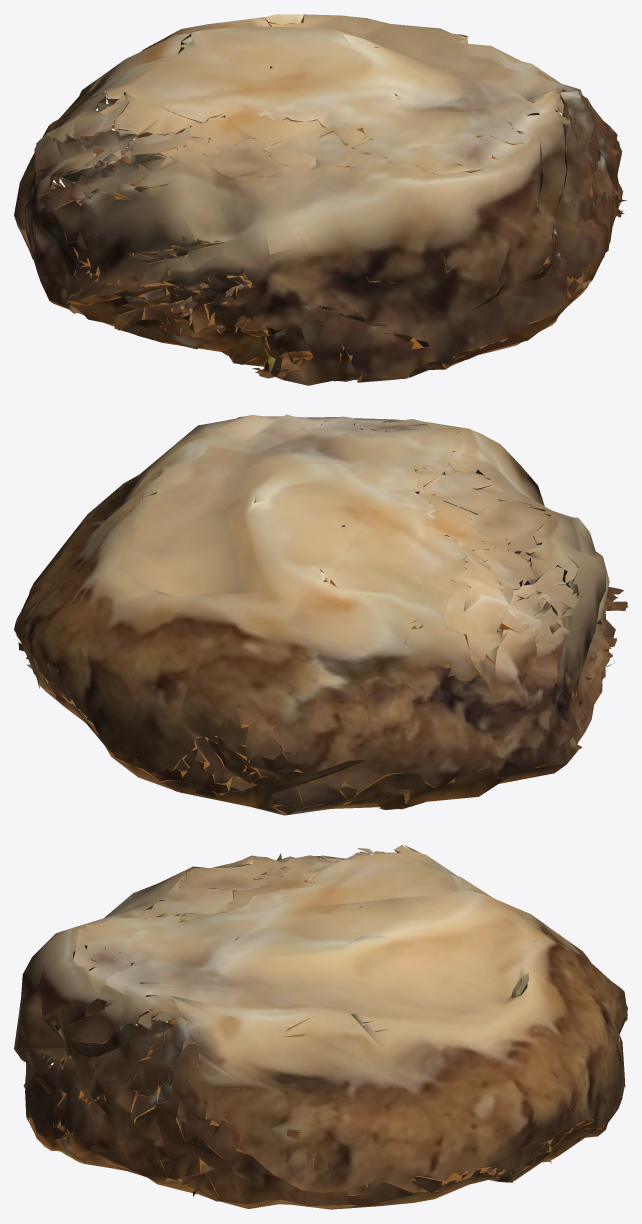
The model's file is soft-banana-bread-cookie.gltf.
The picture shows the model from 3 angles, top to bottom: view 1: azimuth 30°, elevation 25°; view 2: azimuth 150°, elevation 25°; view 3: azimuth 270°, elevation 25°; orthographic projection.
Visible parts, largest first — view 1: model_New Qlone_20211216_161347848; view 2: model_New Qlone_20211216_161347848; view 3: model_New Qlone_20211216_161347848.
Boxes of the visible parts, bbox=[...] form: model_New Qlone_20211216_161347848: bbox=[14, 14, 626, 385]; model_New Qlone_20211216_161347848: bbox=[14, 414, 627, 815]; model_New Qlone_20211216_161347848: bbox=[14, 844, 627, 1209].
Size of the model in its own units: 5.3 by 1.92 by 5.29.
1 material, 1 textured.
